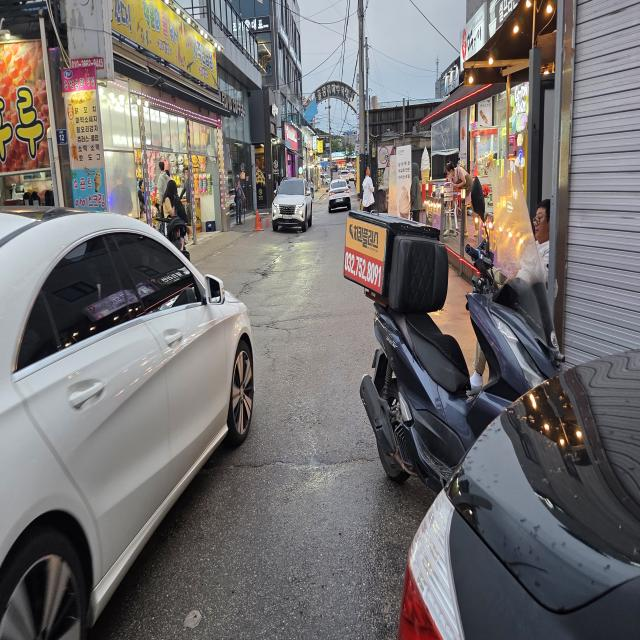car: (0, 178, 261, 640), (374, 310, 640, 640), (267, 164, 316, 241), (325, 169, 351, 221)
motorcycle: (330, 188, 587, 524)
